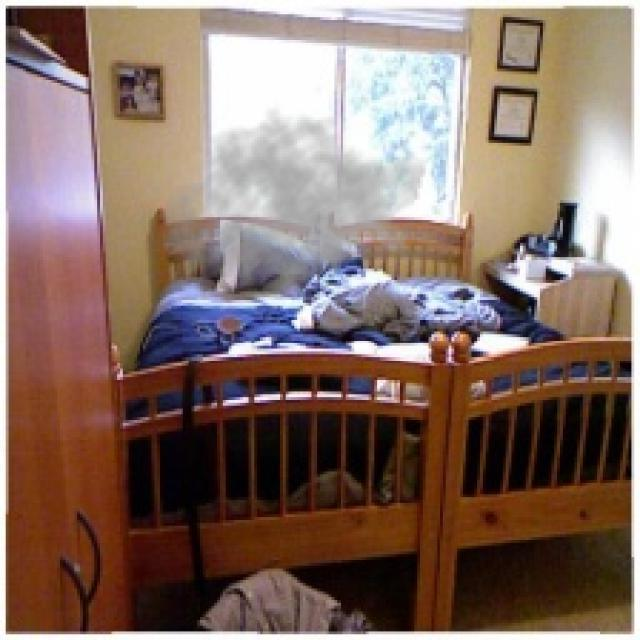Smoke: (157, 106, 429, 306)
